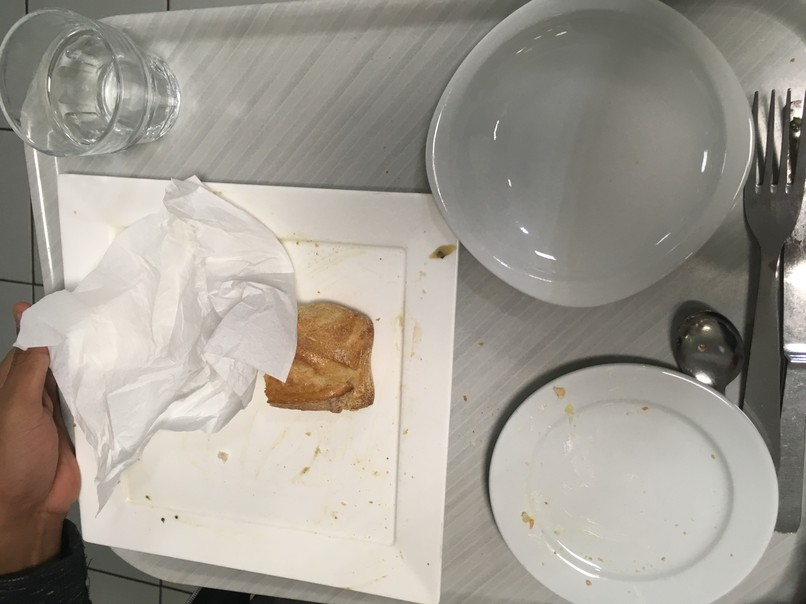cup: (1, 23, 207, 148)
cutlery: (703, 69, 806, 526), (678, 306, 752, 423)
orga: (275, 290, 374, 420)
trash: (29, 174, 301, 494)
